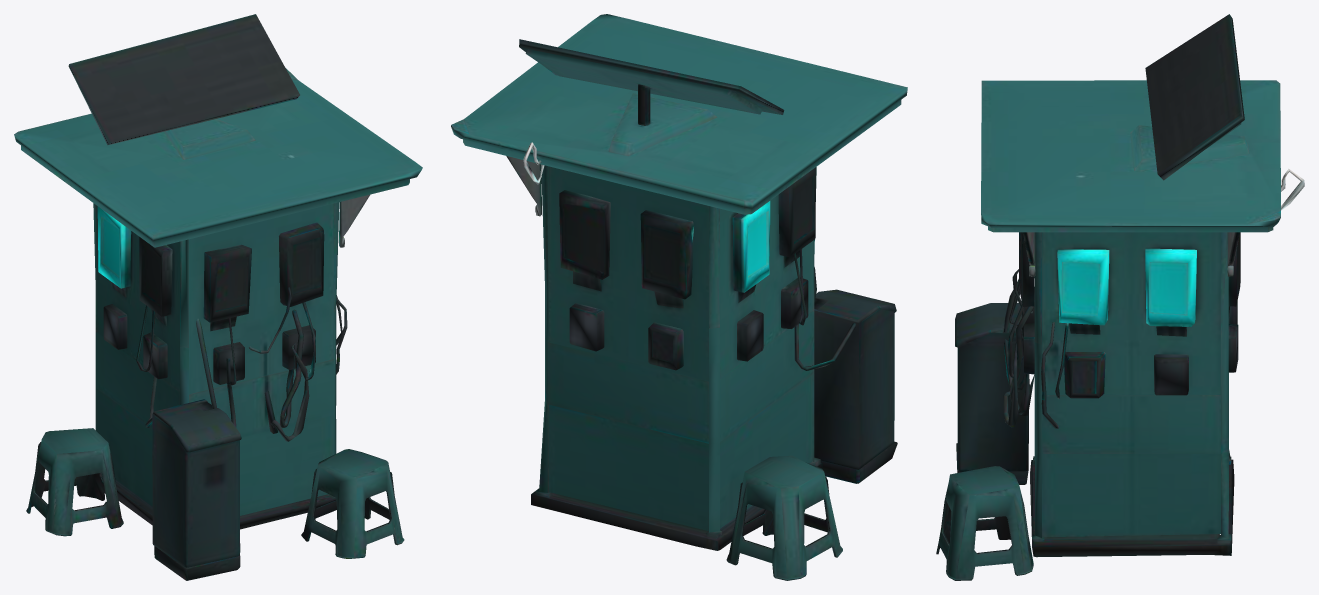
Rendered from charging_kiosk.glb.
3 renders of one model, left to right at view 1: azimuth 30°, elevation 25°; view 2: azimuth 150°, elevation 25°; view 3: azimuth 270°, elevation 25°, orthographic. The views are drawn at different scales.
Visible parts, largest first — view 1: Body; view 2: Body; view 3: Body.
Part boxes in pixels (bbox=[...]): Body: bbox=[14, 14, 422, 580]; Body: bbox=[451, 14, 907, 580]; Body: bbox=[936, 14, 1304, 580].
Size of the model in its own units: 1.72 by 2.42 by 1.76.
Materials: 1 (1 with a texture image).
